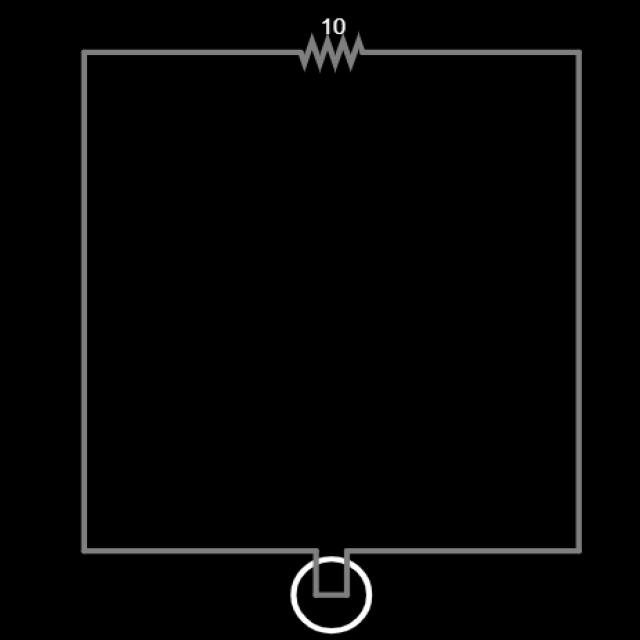Light Bulb: (291, 555, 373, 634)
Resistor: (297, 32, 363, 70)
Wire: (83, 50, 88, 553), (361, 46, 581, 56), (83, 546, 321, 555), (577, 55, 581, 555), (345, 546, 581, 554), (84, 49, 300, 56)
